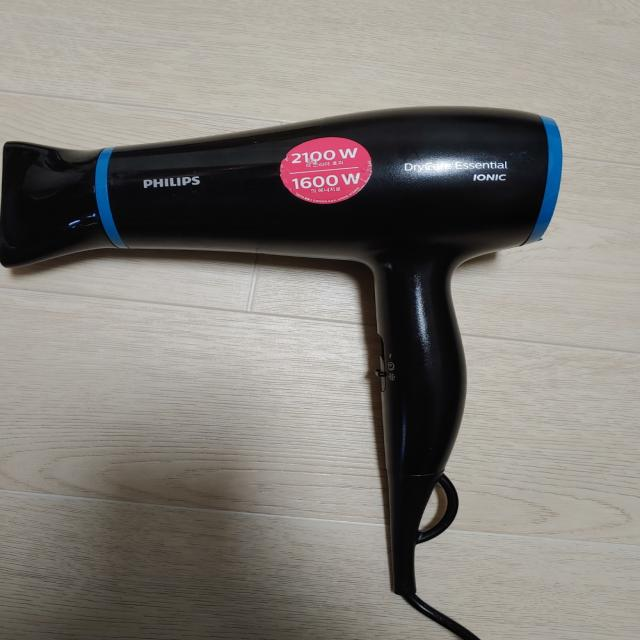dryer: (0, 103, 569, 596)
